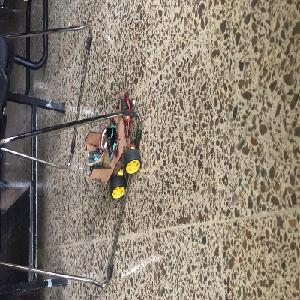Robot: (85, 98, 140, 198)
